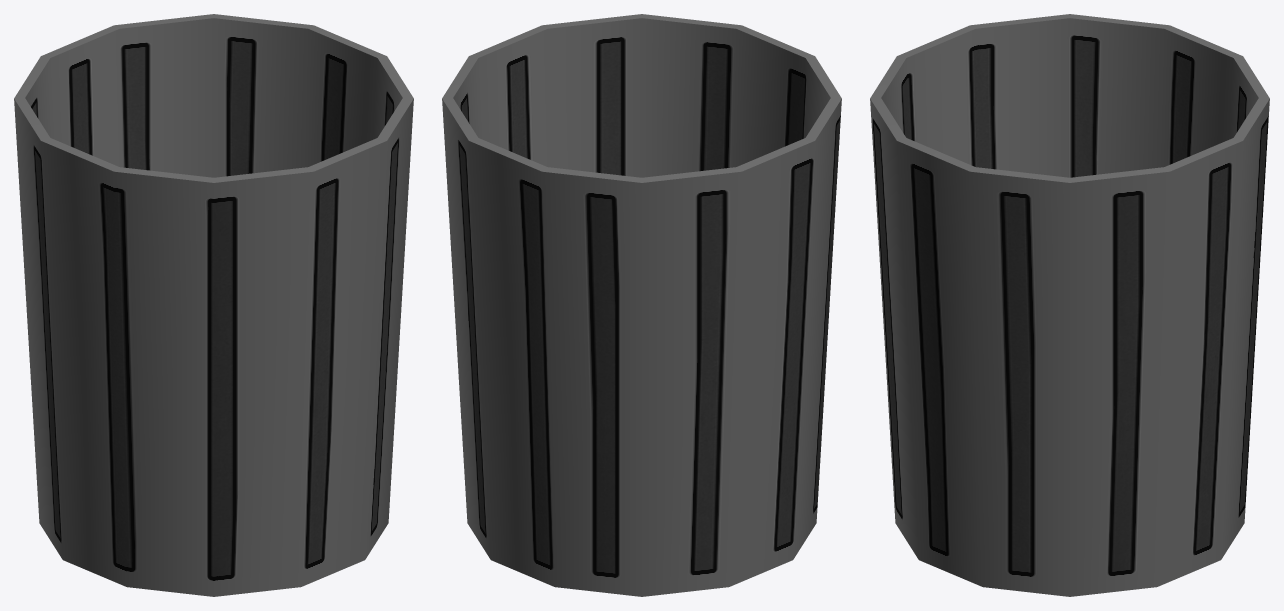
Rendered from Cocina_BoteBasura_03.fbx.
3 views of the same model, side by side, from view 1: azimuth 30°, elevation 25°; view 2: azimuth 150°, elevation 25°; view 3: azimuth 270°, elevation 25° (orthographic).
Visible parts, largest first — view 1: bote de basursa grande; view 2: bote de basursa grande; view 3: bote de basursa grande.
Boxes of the visible parts, bbox=[...] form: bote de basursa grande: bbox=[14, 14, 413, 596]; bote de basursa grande: bbox=[442, 14, 841, 596]; bote de basursa grande: bbox=[870, 14, 1269, 596].
Size of the model in its own units: 40.07 by 47.02 by 40.07.
1 material, 1 textured.
